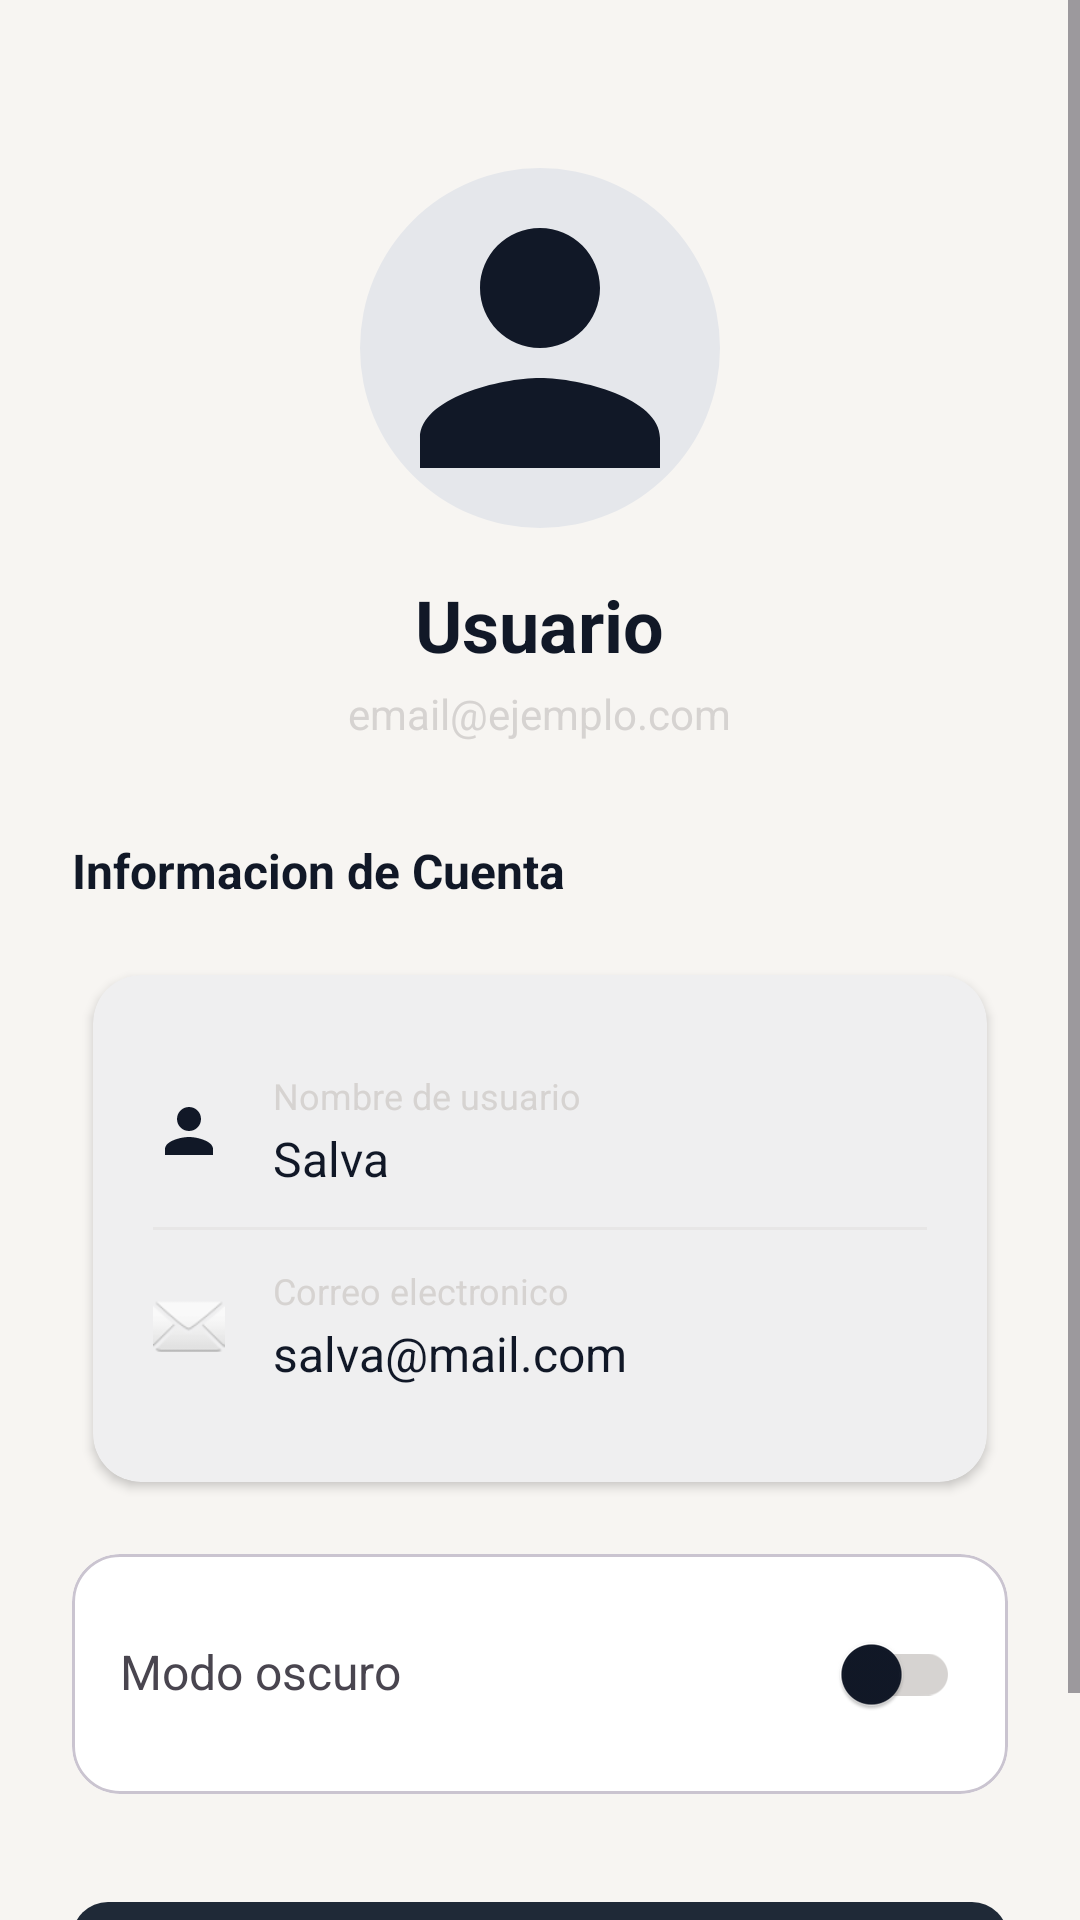

Screen size 1080px×1920px. Icon name, then its center in pixels as (x,y):
Email: (189,1328)
